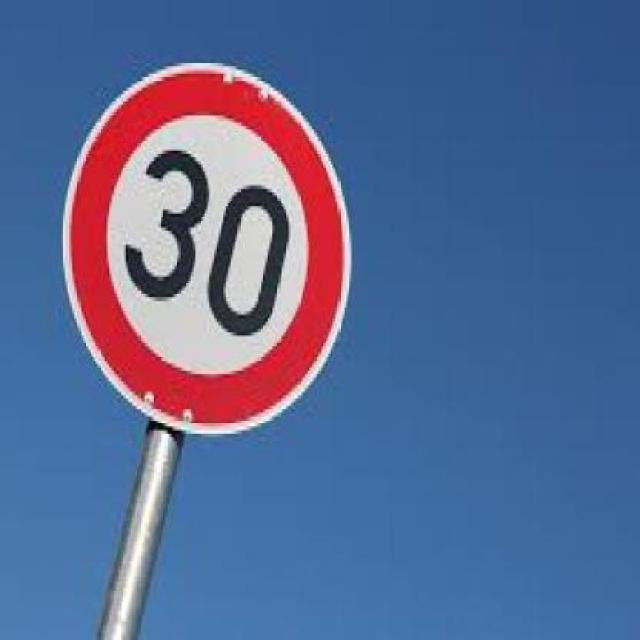forb_speed_over_30: (68, 59, 354, 435)
